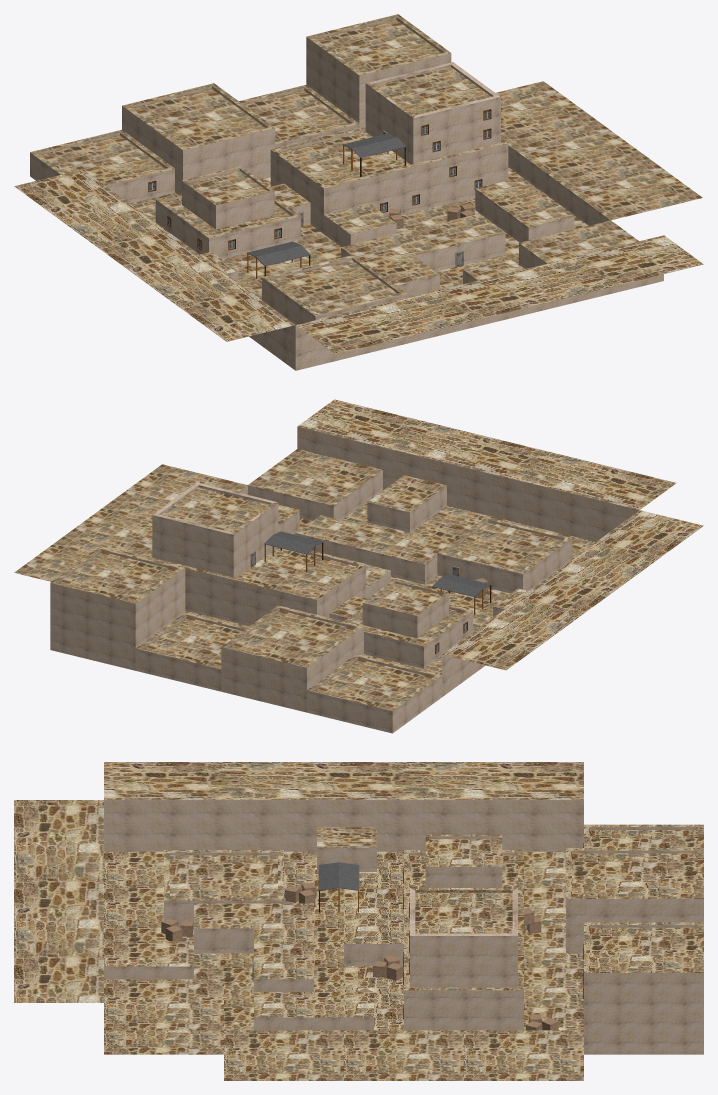
Rendered from Map_1.dae.
3 views of the same model, one above another, from view 1: azimuth 30°, elevation 25°; view 2: azimuth 150°, elevation 25°; view 3: azimuth 270°, elevation 25° (orthographic). The views are drawn at different scales.
Visible parts, largest first — view 1: Plane; view 2: Plane; view 3: Plane.
Boxes of the visible parts, x1,y1,x2,y2 form: Plane: (14, 14, 703, 370); Plane: (14, 399, 703, 733); Plane: (14, 762, 703, 1080).
Size of the model in its own units: 23 by 23 by 3.8.
7 materials, 7 textured.
